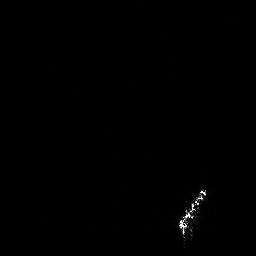ship: (174, 183, 210, 244)
